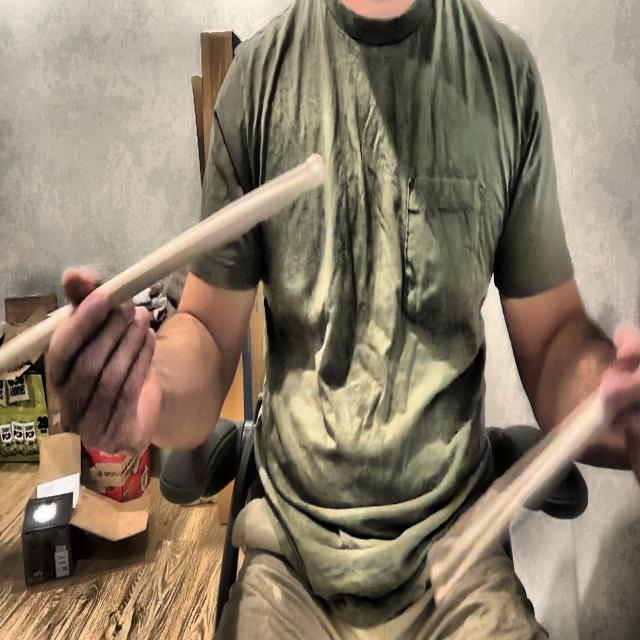Drumstick-Heads: (421, 530, 453, 608), (301, 144, 332, 193)
